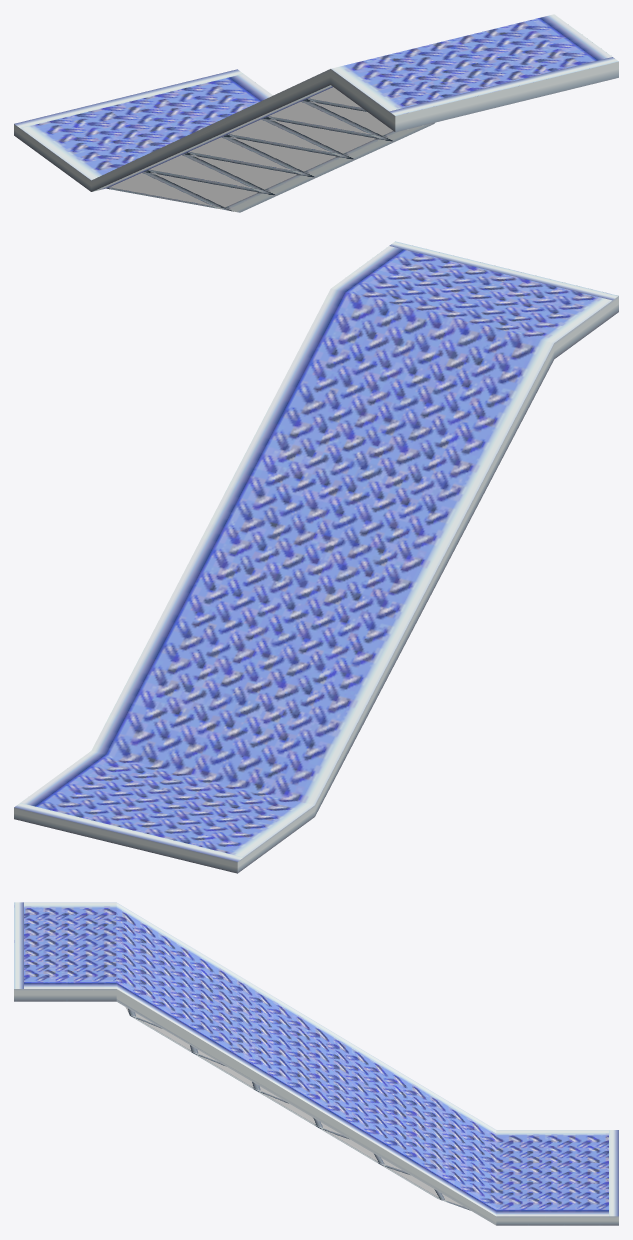
Rendered from riccogangway_bake.dae.
3 views of the same model, one above another, from view 1: azimuth 30°, elevation 25°; view 2: azimuth 150°, elevation 25°; view 3: azimuth 270°, elevation 25° (orthographic). The views are drawn at different scales.
Parts seen in each view (by area): view 1: m0, m0_VC; view 2: m0; view 3: m0, m0_VC.
Boxes of the visible parts, x1=… form: m0: x1=14, y1=14, x2=618, y2=212; m0_VC: x1=110, y1=87, x2=392, y2=207; m0: x1=14, y1=241, x2=618, y2=873; m0: x1=14, y1=902, x2=618, y2=1225; m0_VC: x1=125, y1=1007, x2=463, y2=1206.
Bounding box in the file's own units: 500 × 683 × 1477.
2 materials, 2 textured.
